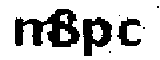8: (51, 8, 81, 50)
c: (116, 16, 144, 48)
m: (5, 17, 59, 54)
p: (82, 17, 114, 60)
